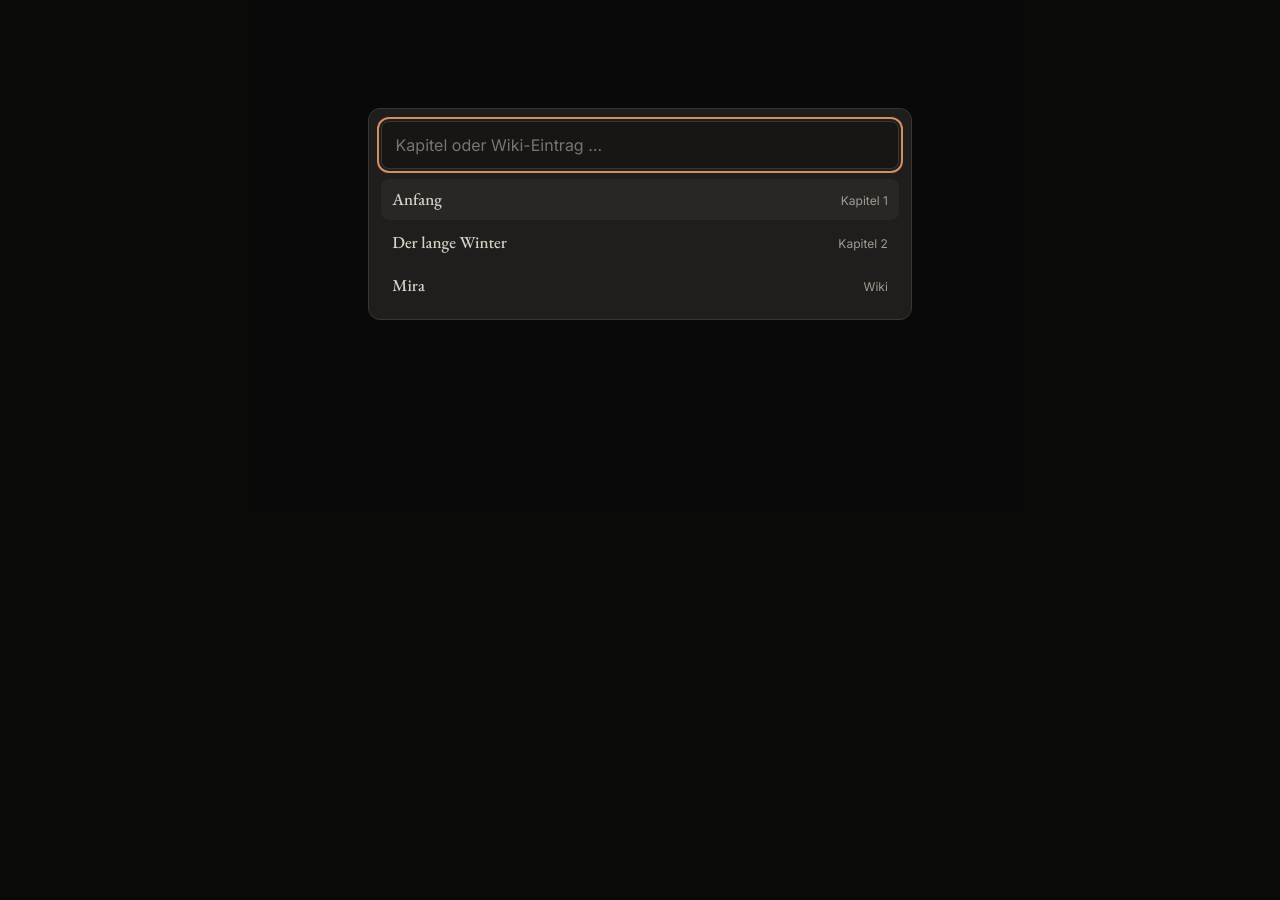
typing filters the list
Check: the number of options is 3, box 381,179 -> 899,220; 392,231 -> 888,253; 392,274 -> 888,296
Type "win" into the dropdown named "Kapitel oder Wiki-Eintrag suchen". click: (640, 145)
box: 381,121 -> 899,169
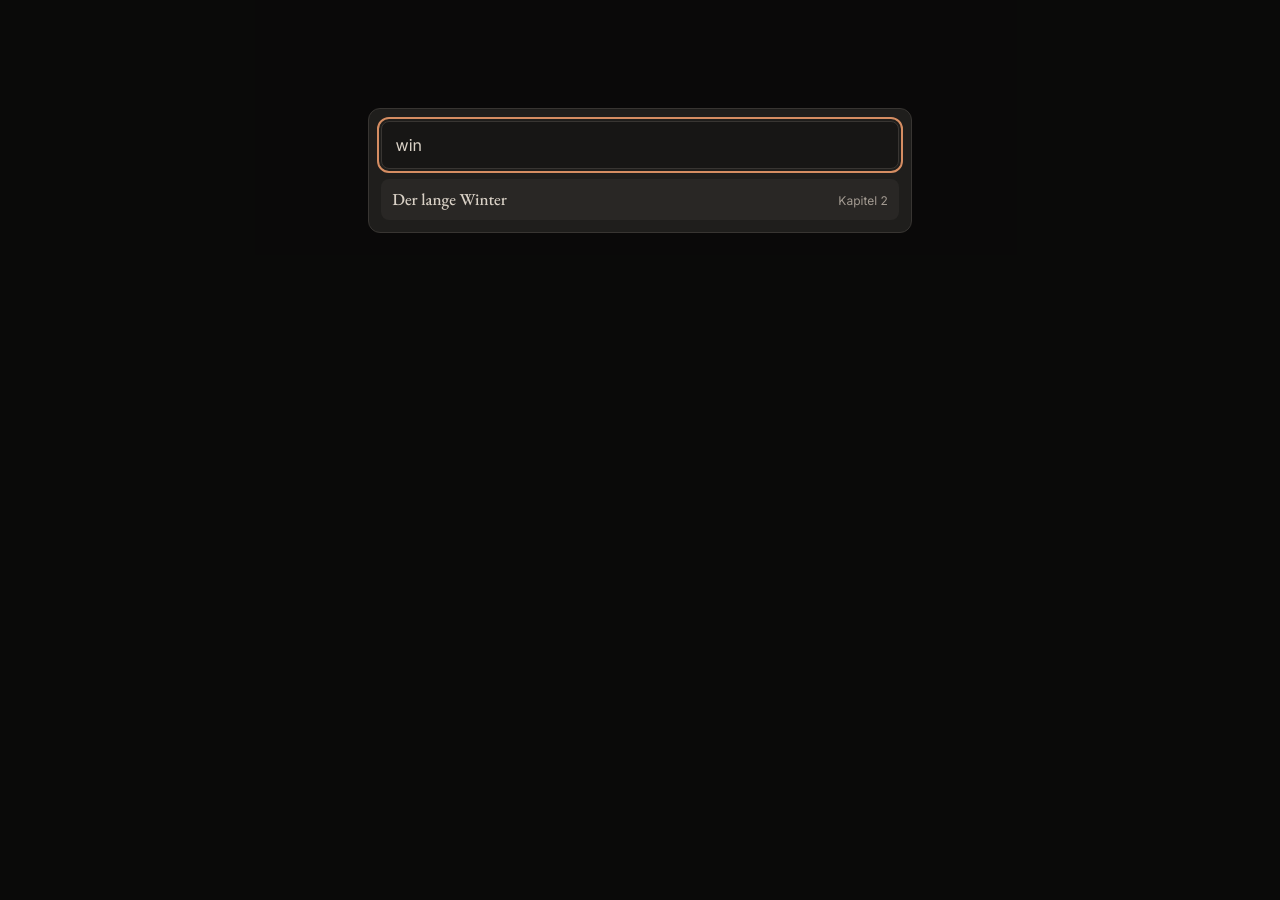
Check: the option shows "Der lange Winter", box 381,179 -> 899,220
Check: the number of options is 1, box 381,179 -> 899,220
